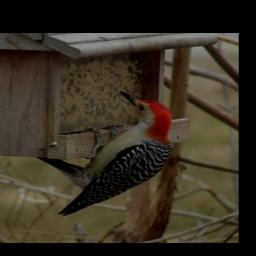Woodpecker: (45, 89, 178, 212)
